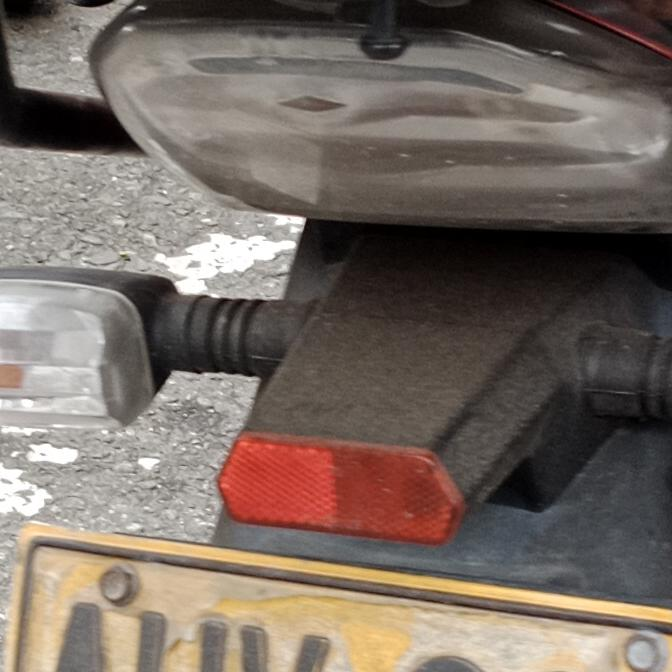plates: (13, 518, 672, 672)
